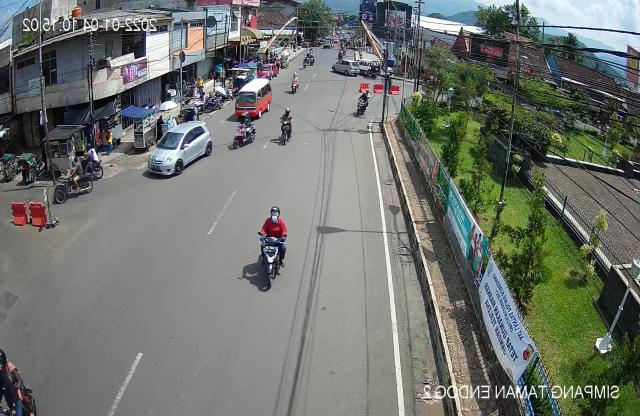Becak: (50, 153, 96, 208), (289, 72, 299, 96)
Mobil: (143, 118, 216, 182), (232, 79, 272, 120), (330, 60, 360, 78)
Motor: (252, 205, 290, 294), (231, 115, 257, 150), (277, 108, 293, 146), (354, 90, 370, 118)
